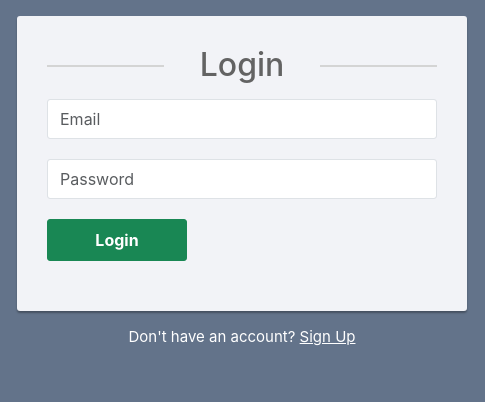
LoginPage component › handles failed login with other error
Type "test@example.com" into the field with placeholder "Email". click: (242, 119)
box: [47, 99, 437, 139]
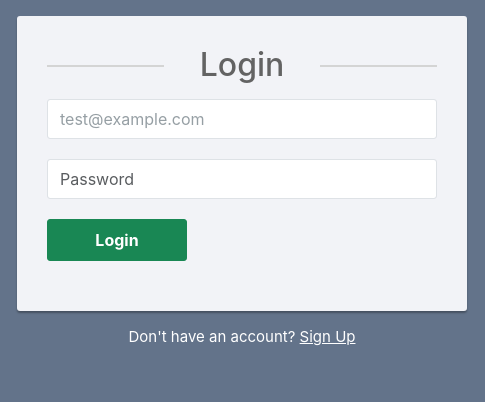
Type "testPassword" into the password field with placeholder "Password". click: (242, 179)
box: [47, 159, 437, 199]
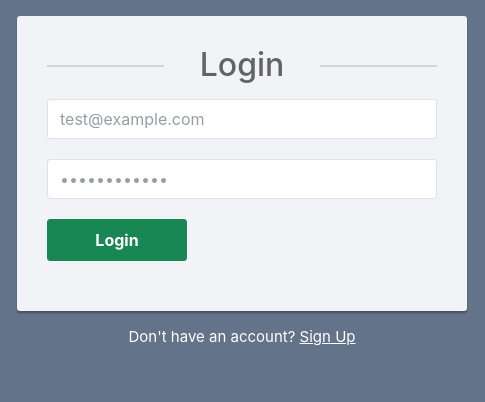
Submit the form from the button with test id "login", box [47, 219, 187, 261]
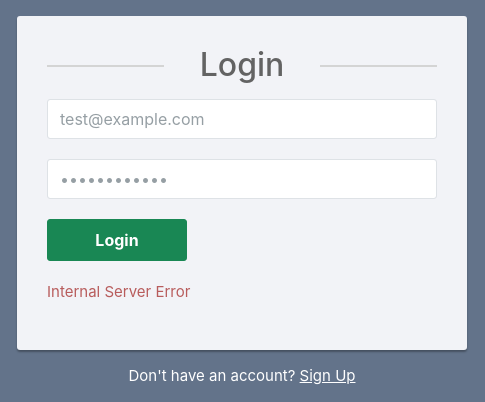
Now the text "Internal Server Error" is shown, box [47, 282, 190, 301]
